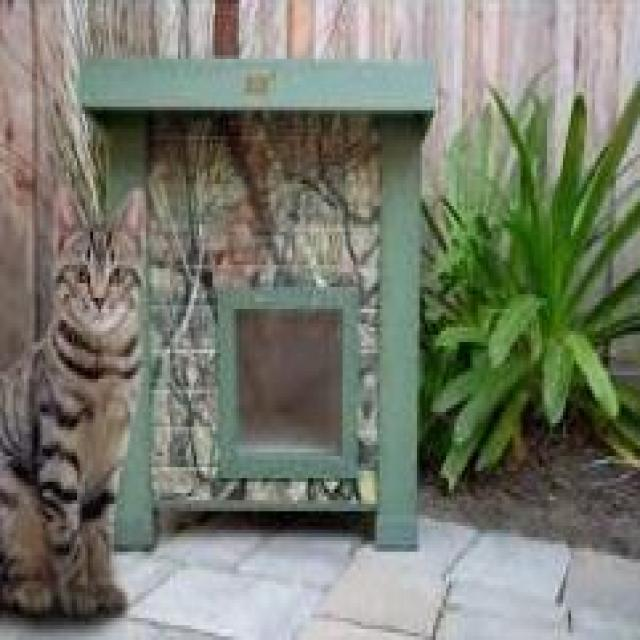Gato: (0, 180, 151, 625)
